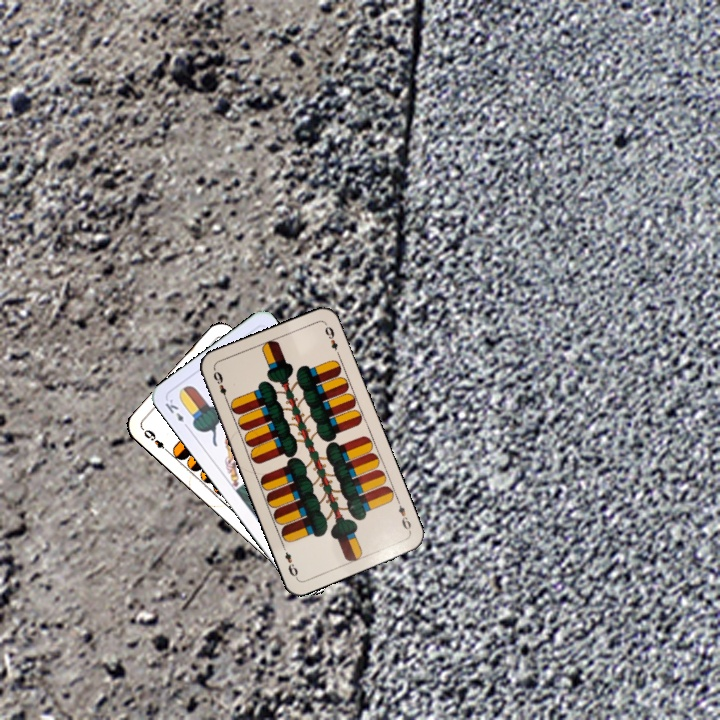E9: (140, 425, 172, 456), (209, 367, 231, 405), (393, 496, 414, 535)
EK: (161, 395, 192, 432)
